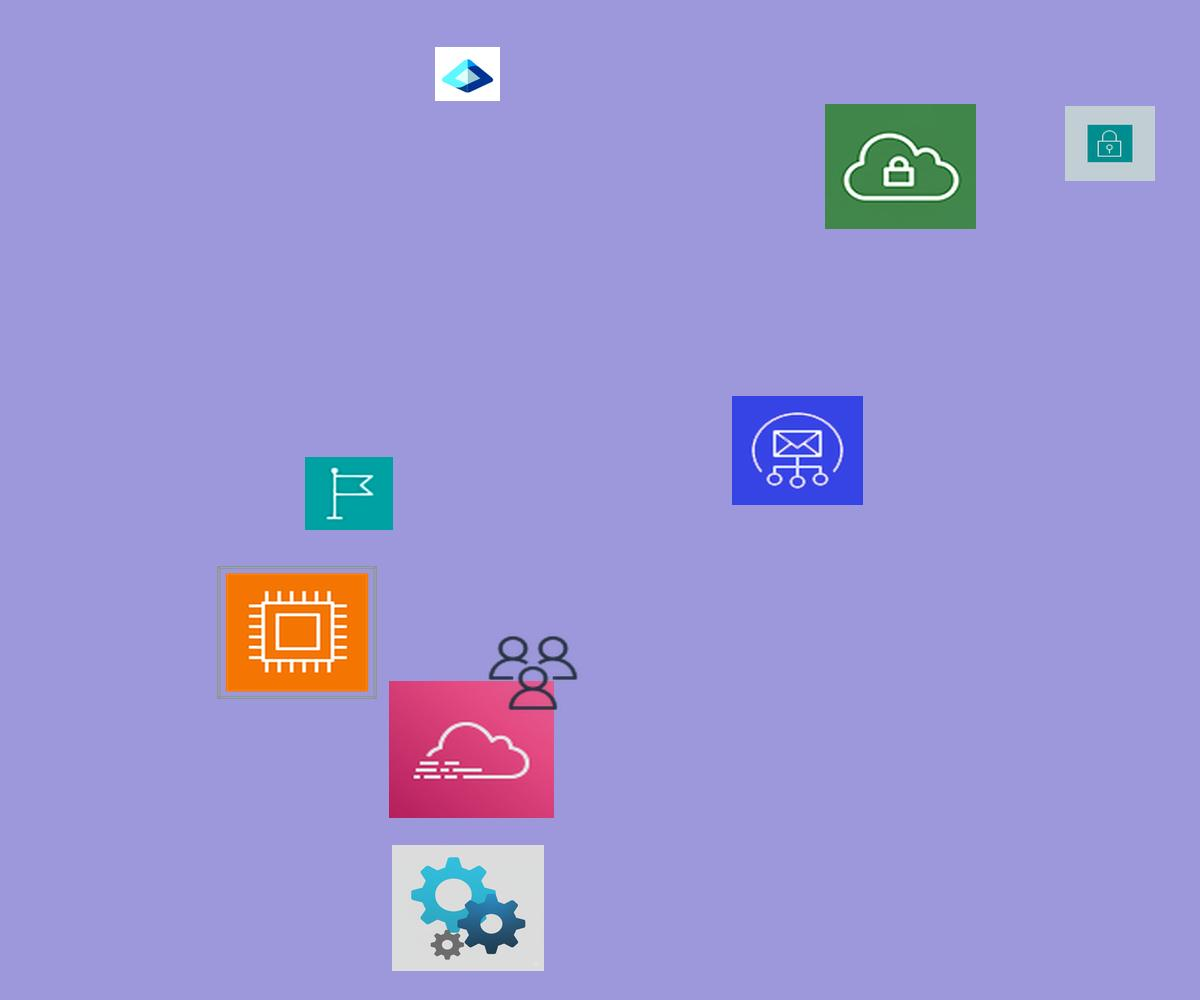AWS-Category_Compute: (217, 566, 377, 699)
AWS-CloudTrail: (389, 681, 554, 818)
AWS-Private-subnet: (1065, 106, 1155, 181)
AWS-Private_vpc: (825, 104, 976, 229)
AWS-Region: (305, 457, 393, 530)
AWS-Res_Users: (485, 633, 581, 713)
AWS-Simple-Email-Service: (732, 396, 863, 505)
Azure_api: (392, 845, 544, 971)
Azure_microsoft_entra: (435, 47, 500, 101)
